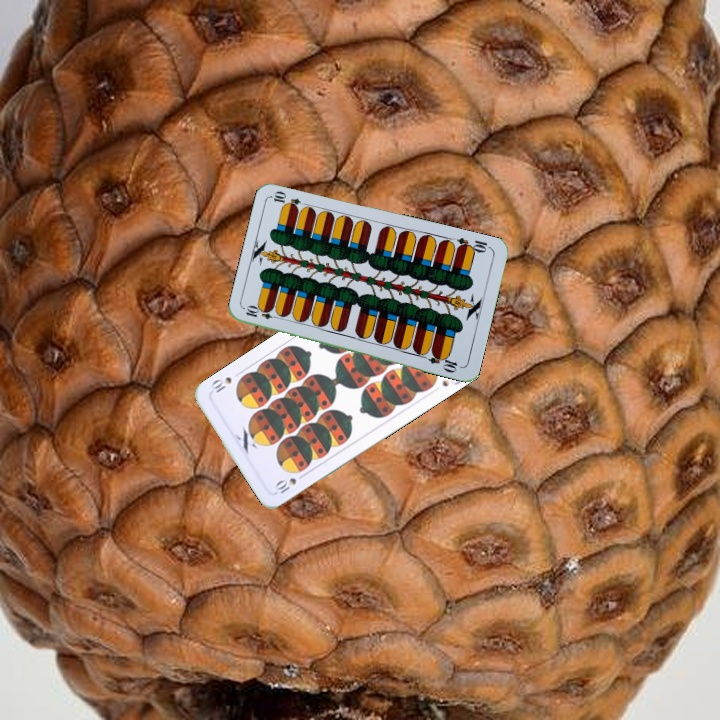E10: (453, 234, 493, 255), (242, 303, 282, 322)
S10: (270, 474, 299, 496)
